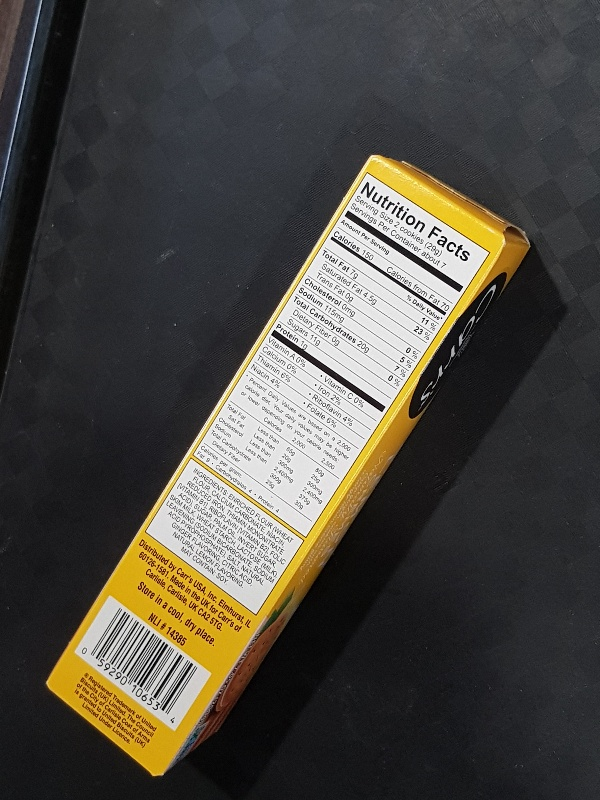Carr's Ginger Lemon Cremes: (44, 150, 533, 778)
